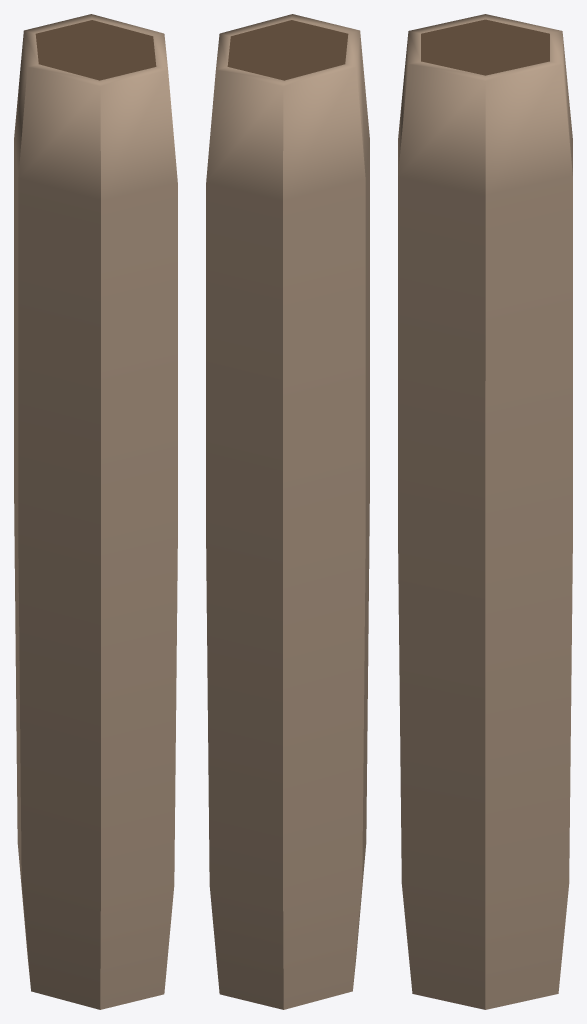
The model's file is LogHalf.fbx.
3 views of the same model, side by side, from view 1: azimuth 30°, elevation 25°; view 2: azimuth 150°, elevation 25°; view 3: azimuth 270°, elevation 25° (orthographic).
Parts seen in each view (by area): view 1: Plane.001, Plane.002; view 2: Plane.001, Plane.002; view 3: Plane.001, Plane.002.
Boxes of the visible parts, bbox=[...] form: Plane.001: bbox=[14, 14, 177, 1009]; Plane.002: bbox=[35, 20, 156, 80]; Plane.001: bbox=[206, 14, 369, 1009]; Plane.002: bbox=[227, 20, 348, 80]; Plane.001: bbox=[398, 14, 572, 1009]; Plane.002: bbox=[421, 19, 549, 75].
Size of the model in its own units: 161 by 914 by 156.
